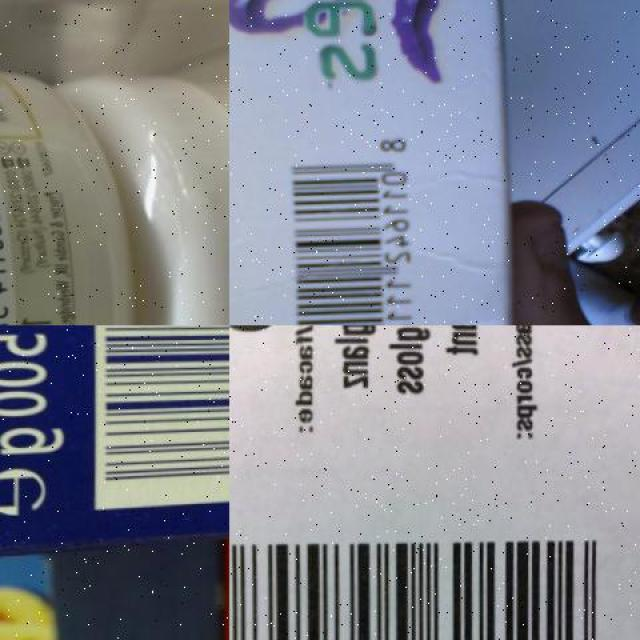Barcode: (229, 526, 639, 640), (271, 130, 428, 326), (93, 325, 230, 507)
